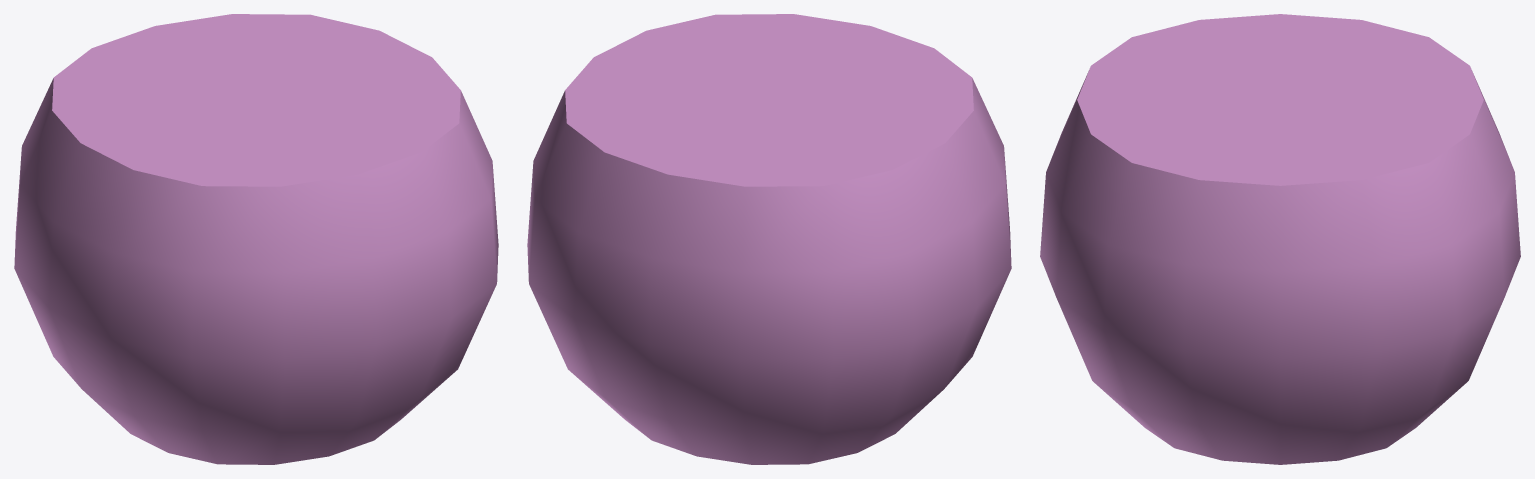
File: liquidillo3.FBX
3 views of the same model, side by side, from view 1: azimuth 30°, elevation 25°; view 2: azimuth 150°, elevation 25°; view 3: azimuth 270°, elevation 25° (orthographic).
Visible parts, largest first — view 1: liquidillo4_low; view 2: liquidillo4_low; view 3: liquidillo4_low.
Boxes of the visible parts, x1,y1,x2,y2 form: liquidillo4_low: [14, 14, 498, 464]; liquidillo4_low: [527, 14, 1011, 464]; liquidillo4_low: [1040, 14, 1520, 464].
Size of the model in its own units: 5.44 by 3.79 by 5.44.
